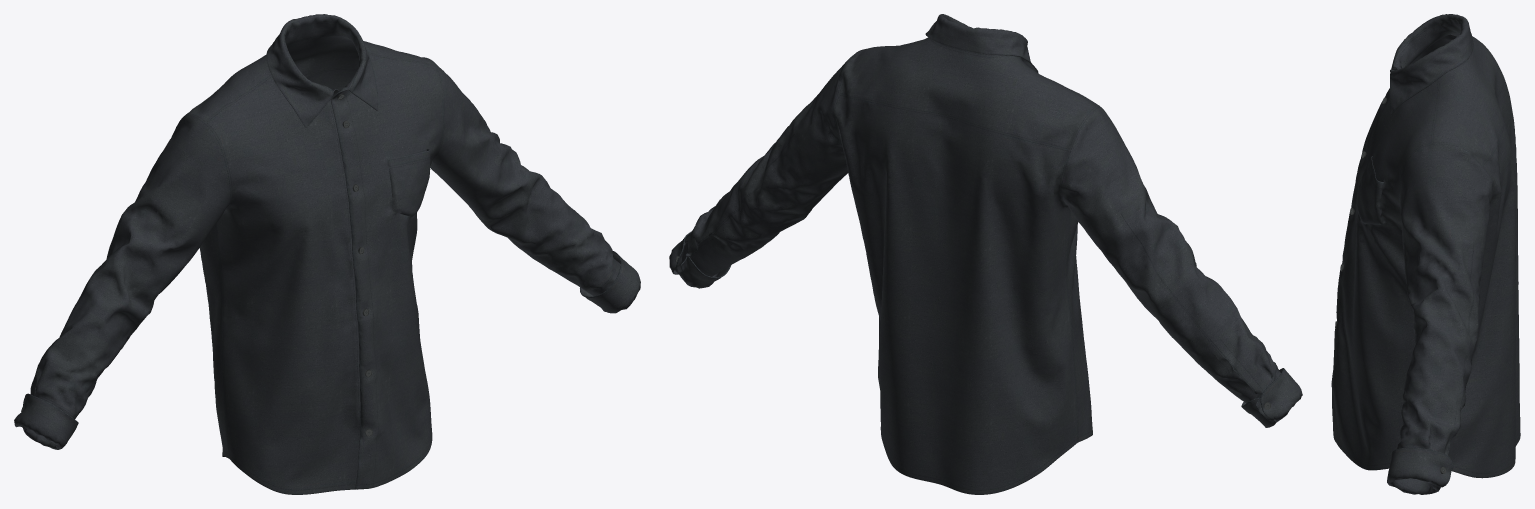
The model's file is shirtt.glb.
3 views of the same model, side by side, from view 1: azimuth 30°, elevation 25°; view 2: azimuth 150°, elevation 25°; view 3: azimuth 270°, elevation 25° (orthographic). The views are drawn at different scales.
Parts seen in each view (by area): view 1: Object_9, Object_7, Object_6, Object_2; view 2: Object_2, Object_7, Object_6, Object_9; view 3: Object_9, Object_6, Object_2, Object_7.
Part boxes in pixels (bbox=[...]): Object_9: bbox=[205, 14, 444, 494]; Object_7: bbox=[14, 114, 231, 449]; Object_6: bbox=[430, 61, 640, 313]; Object_2: bbox=[186, 35, 436, 458]; Object_2: bbox=[833, 37, 1096, 494]; Object_7: bbox=[1060, 106, 1302, 427]; Object_6: bbox=[669, 55, 852, 288]; Object_9: bbox=[925, 14, 1099, 442]; Object_9: bbox=[1331, 14, 1473, 470]; Object_6: bbox=[1387, 143, 1492, 494]; Object_2: bbox=[1432, 32, 1520, 477]; Object_7: bbox=[1411, 34, 1456, 63].
Bounding box in the file's own units: 115 × 77.73 × 31.21.
Materials: 9 (7 with a texture image).
